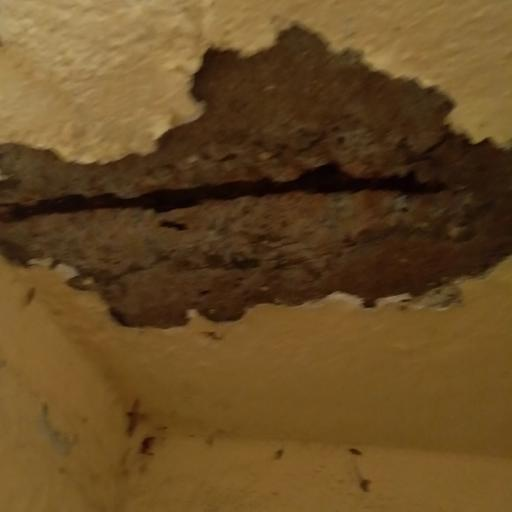spalling: (3, 11, 512, 328)
